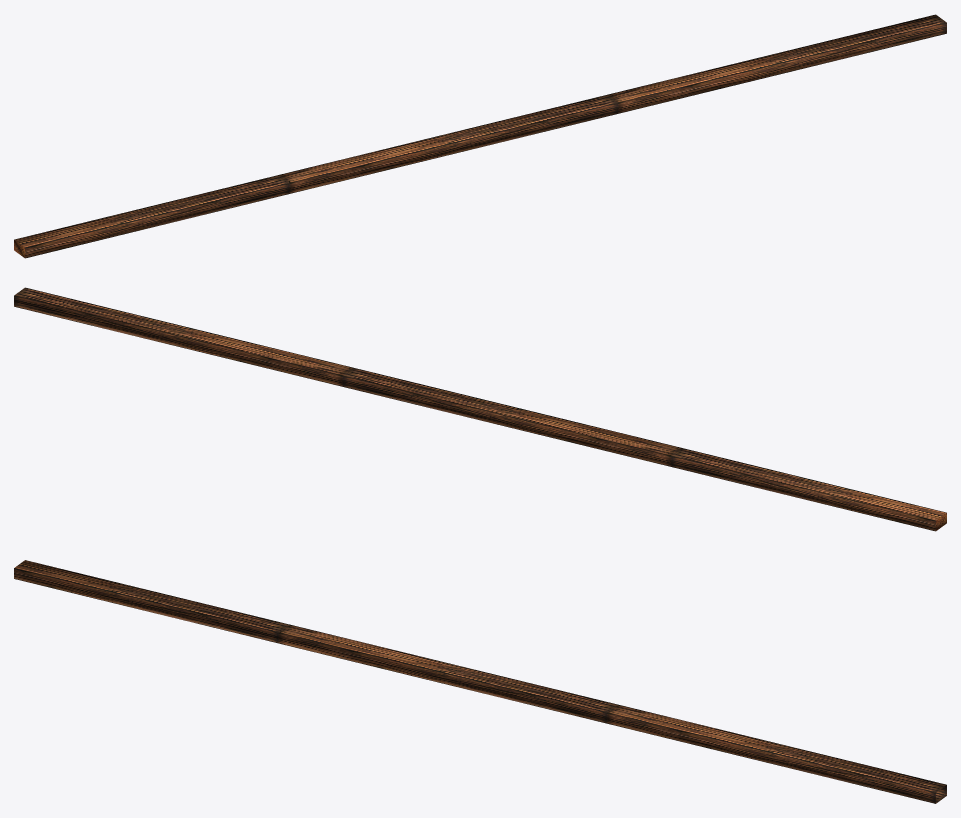
Rendered from LAKETOWN_WAREHOUSE1_PS_WH1_TOPBEAM3181.fbx.
The picture shows the model from 3 angles, top to bottom: view 1: azimuth 30°, elevation 25°; view 2: azimuth 150°, elevation 25°; view 3: azimuth 330°, elevation 25°; orthographic projection.
Visible parts, largest first — view 1: LAKETOWN_WAREHOUSE1_PS_WH1_TOPBEAM3181; view 2: LAKETOWN_WAREHOUSE1_PS_WH1_TOPBEAM3181; view 3: LAKETOWN_WAREHOUSE1_PS_WH1_TOPBEAM3181.
Boxes of the visible parts, x1,y1,x2,y2 form: LAKETOWN_WAREHOUSE1_PS_WH1_TOPBEAM3181: [14, 14, 946, 258]; LAKETOWN_WAREHOUSE1_PS_WH1_TOPBEAM3181: [14, 287, 946, 531]; LAKETOWN_WAREHOUSE1_PS_WH1_TOPBEAM3181: [14, 560, 946, 803].
Bounding box in the file's own units: 139653 × 1600 × 2918.
Materials: 2 (2 with a texture image).
